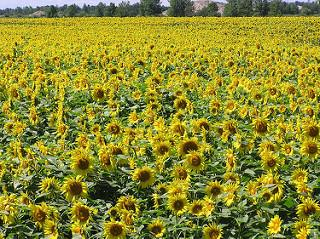sunflower: (165, 192, 190, 216), (169, 163, 191, 188), (132, 166, 157, 188), (297, 198, 320, 221), (70, 152, 92, 176), (68, 203, 92, 225), (103, 219, 129, 238), (62, 175, 86, 195), (299, 138, 320, 160), (146, 217, 167, 239), (183, 152, 206, 172), (97, 147, 116, 171), (202, 179, 223, 200), (178, 137, 199, 157), (259, 153, 281, 172), (202, 220, 222, 239), (106, 118, 124, 139), (302, 120, 320, 141), (153, 140, 172, 159), (170, 95, 191, 112), (250, 118, 270, 135), (290, 168, 309, 185), (188, 200, 208, 216), (44, 218, 58, 239), (90, 85, 105, 101)
